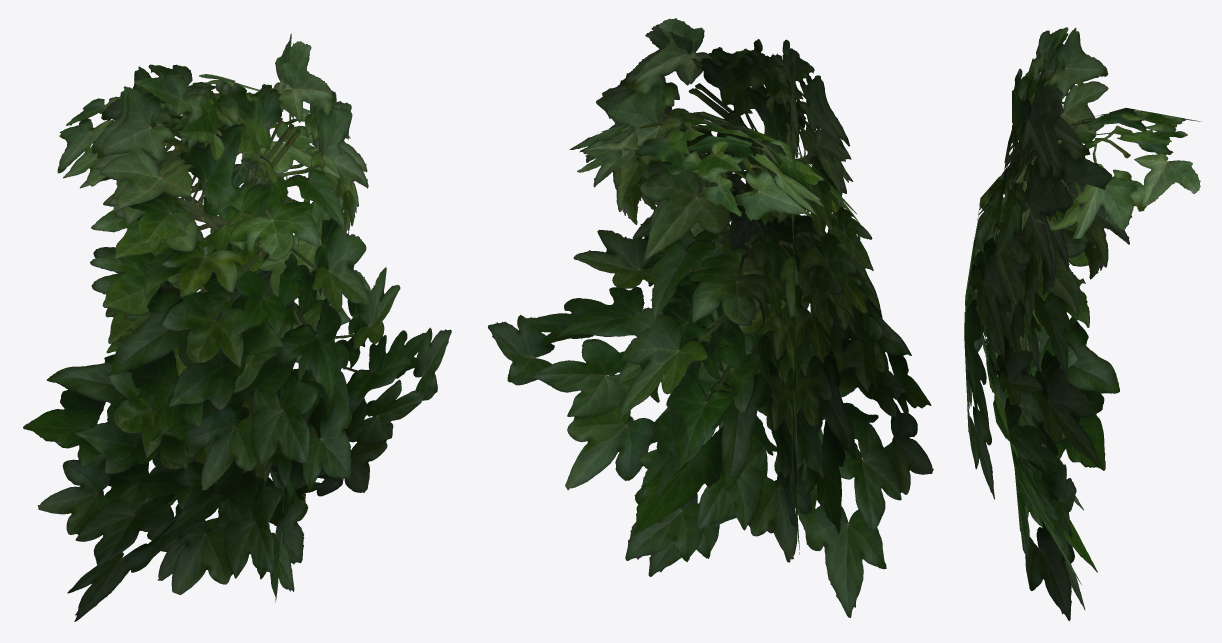
File: hera.glb
3 renders of one model, left to right at view 1: azimuth 30°, elevation 25°; view 2: azimuth 150°, elevation 25°; view 3: azimuth 270°, elevation 25°, orthographic. The views are drawn at different scales.
Parts seen in each view (by area): view 1: ivy_corner_horizontal, ivy_bend_left, ivy_bend_right, ivy_corner_vertical, ivy_default; view 2: ivy_corner_vertical, ivy_default, ivy_bend_right, ivy_bend_left, ivy_corner_horizontal; view 3: ivy_corner_vertical, ivy_corner_horizontal, ivy_bend_right, ivy_default, ivy_bend_left.
Part boxes in pixels (bbox=[...]): ivy_corner_horizontal: bbox=[57, 74, 370, 491]; ivy_bend_left: bbox=[23, 74, 368, 621]; ivy_bend_right: bbox=[114, 44, 451, 525]; ivy_corner_vertical: bbox=[93, 33, 294, 602]; ivy_default: bbox=[90, 41, 344, 580]; ivy_corner_vertical: bbox=[593, 18, 799, 576]; ivy_default: bbox=[585, 30, 857, 561]; ivy_bend_right: bbox=[488, 51, 846, 535]; ivy_bend_left: bbox=[594, 24, 933, 617]; ivy_corner_horizontal: bbox=[569, 111, 882, 391]; ivy_corner_vertical: bbox=[1012, 27, 1129, 621]; ivy_corner_horizontal: bbox=[964, 108, 1200, 499]; ivy_bend_right: bbox=[987, 72, 1097, 585]; ivy_default: bbox=[1004, 33, 1085, 610]; ivy_bend_left: bbox=[981, 31, 1083, 510].
Size of the model in its own units: 1.04 by 1.26 by 0.5196.
Materials: 1 (1 with a texture image).
